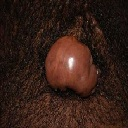Keloids: (47, 35, 101, 95)
